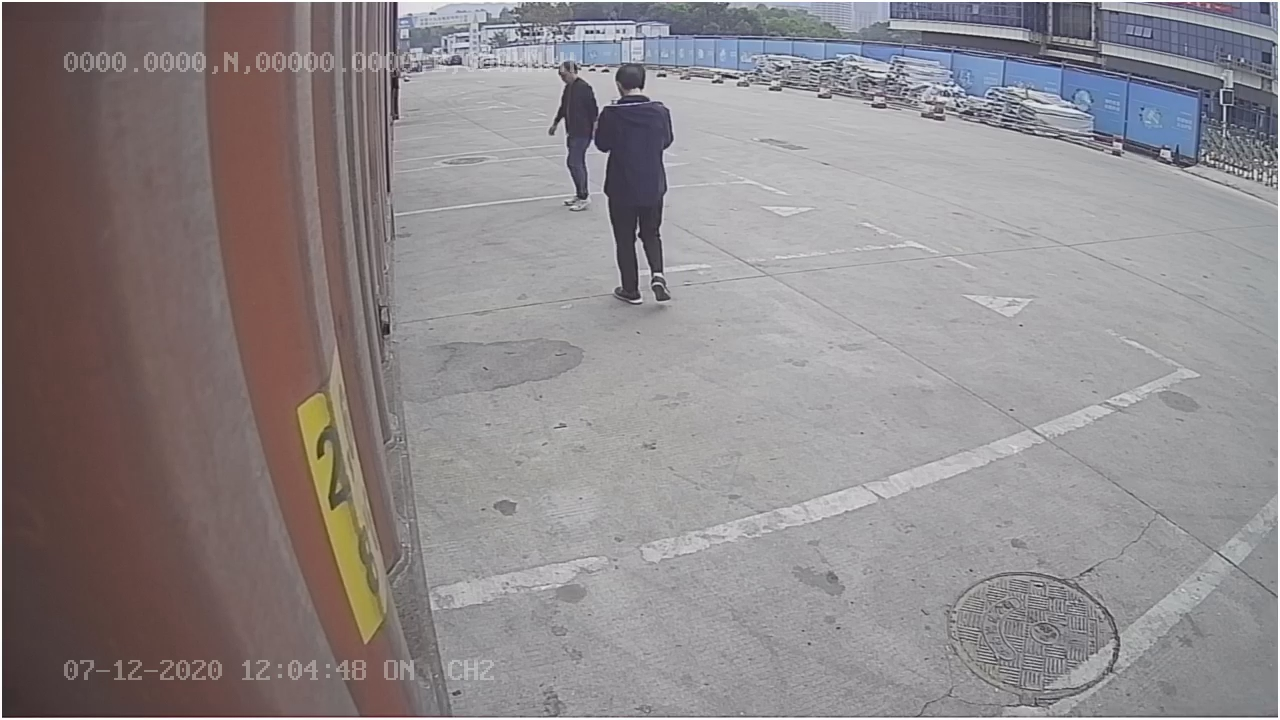person: (592, 58, 679, 306)
